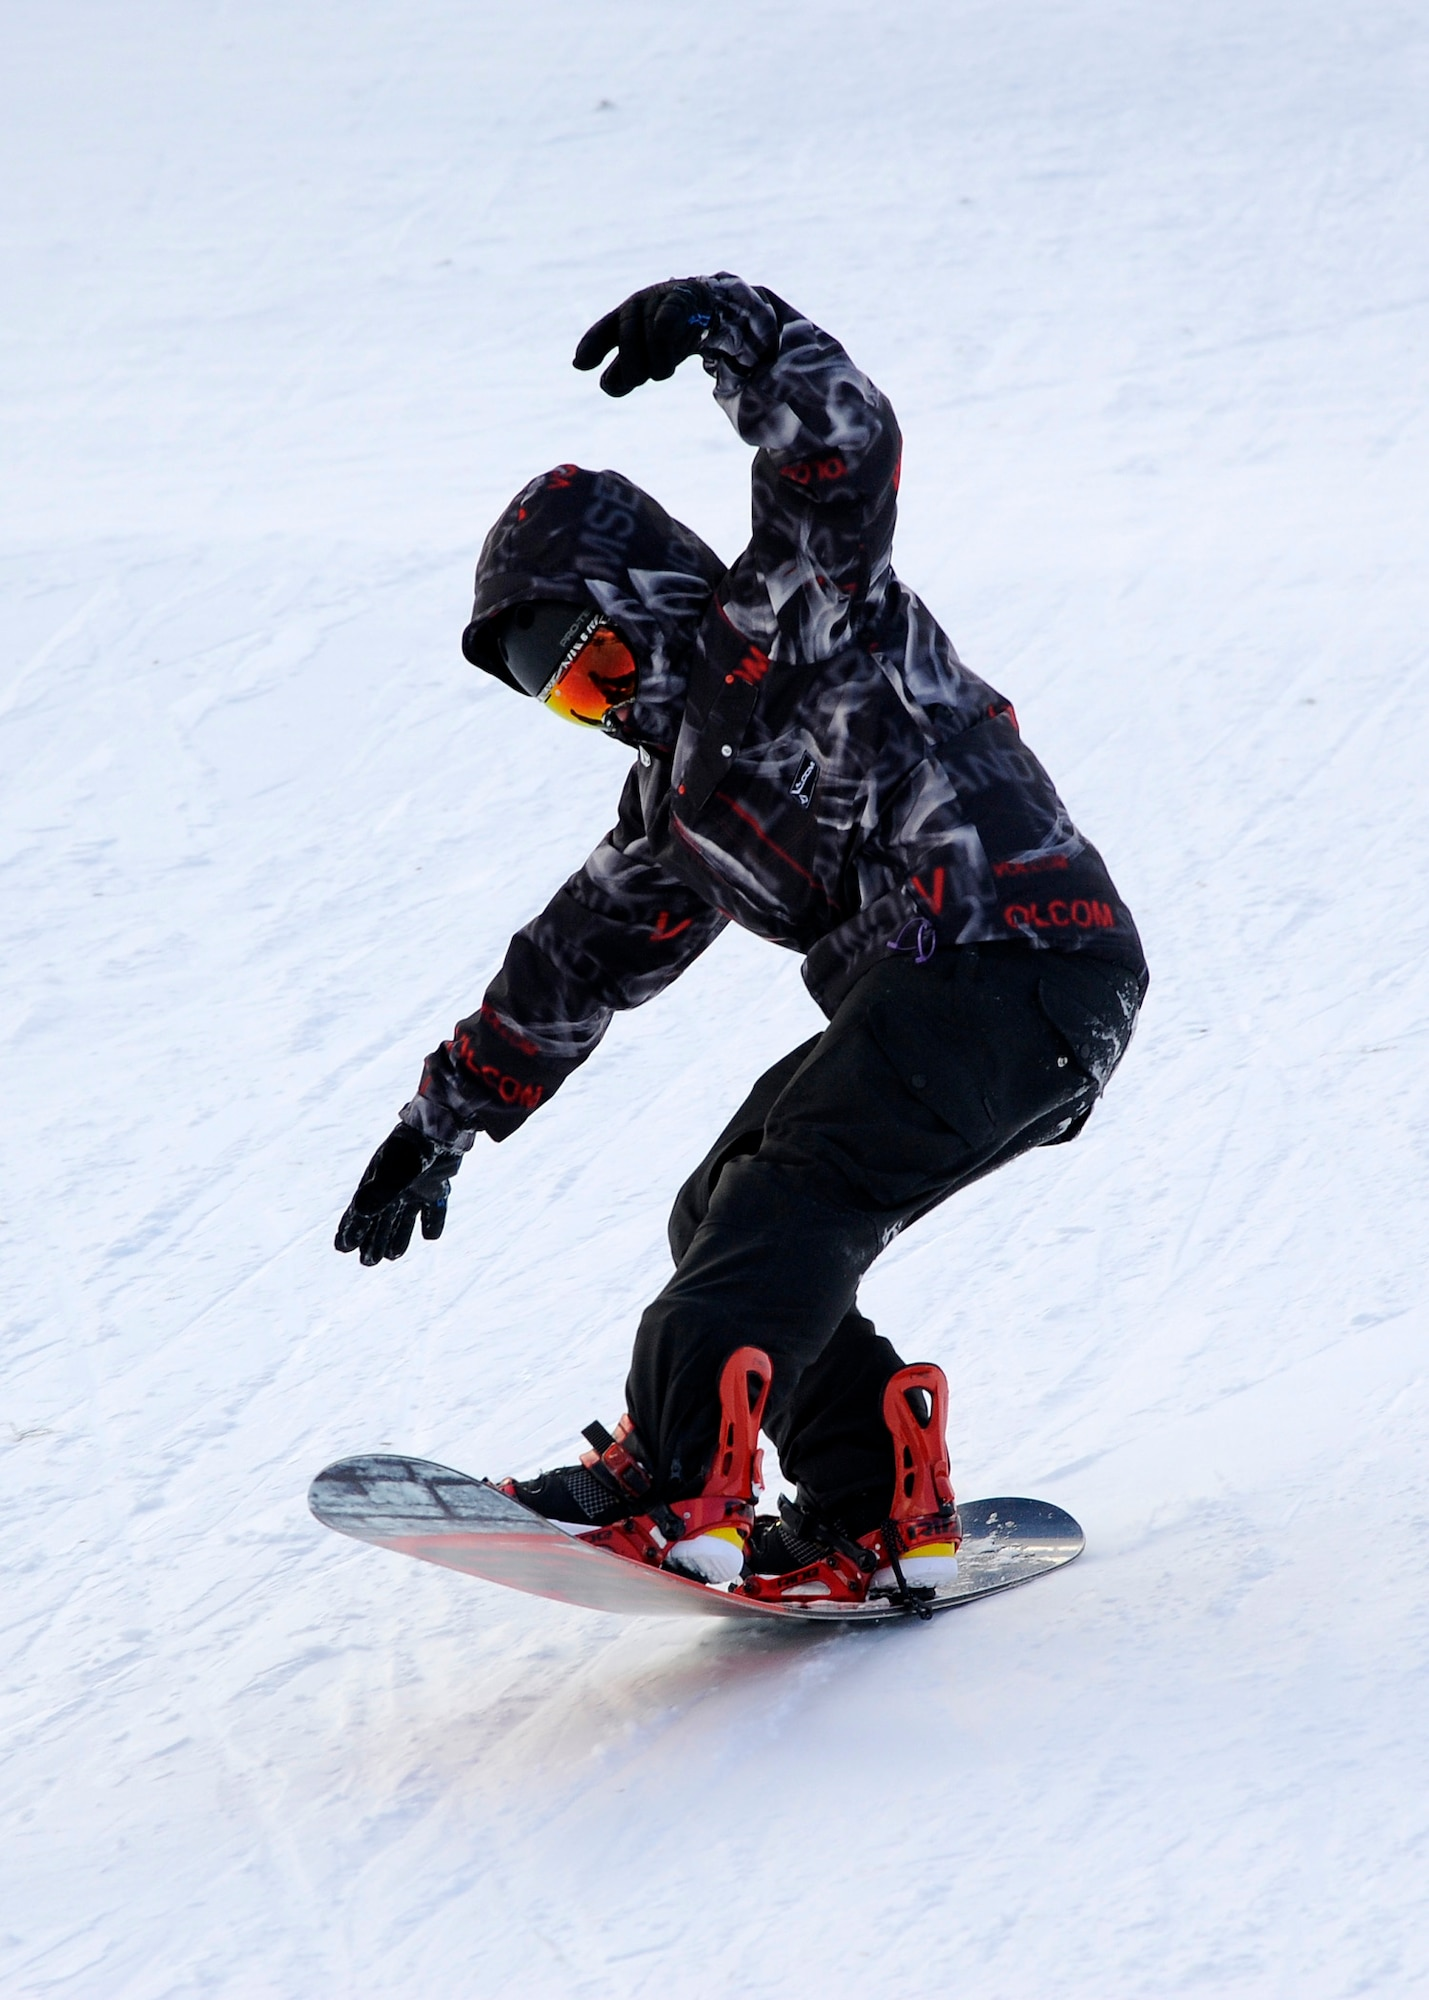snowboarder: (204, 263, 1161, 1647)
